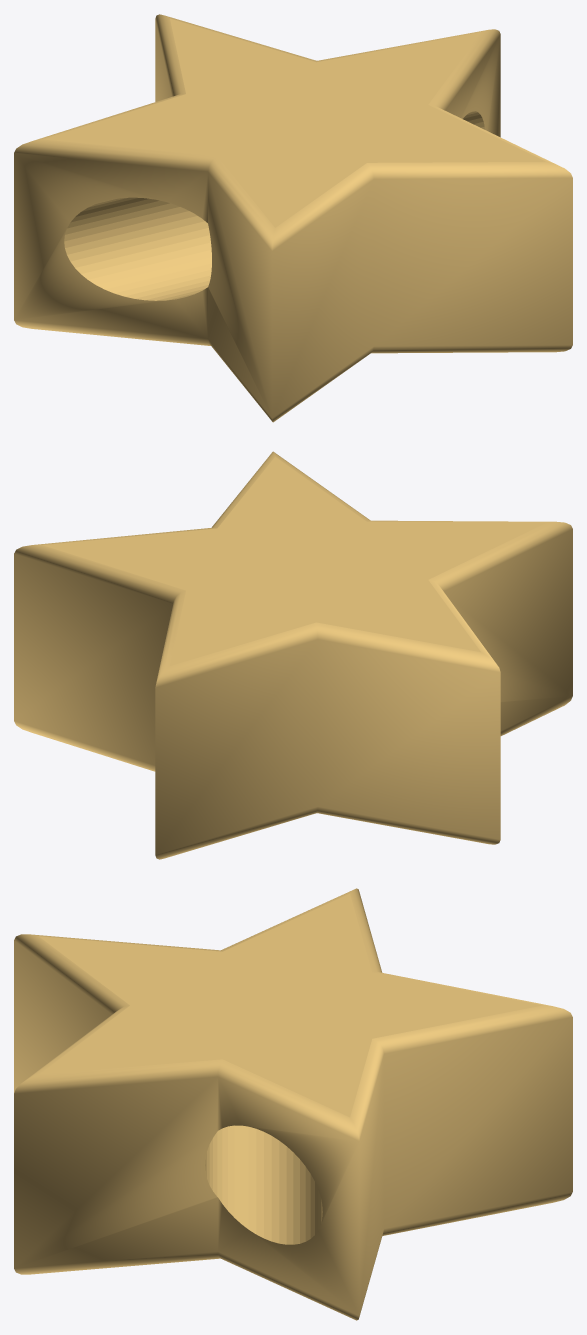
File: spacer-14-gold.glb
3 views of the same model, one above another, from view 1: azimuth 30°, elevation 25°; view 2: azimuth 150°, elevation 25°; view 3: azimuth 270°, elevation 25° (orthographic). The views are drawn at different scales.
Parts seen in each view (by area): view 1: Cast relief.002; view 2: Cast relief.002; view 3: Cast relief.002.
Boxes of the visible parts, box(x1,y1,x2,y2) form: Cast relief.002: box(14, 14, 572, 422); Cast relief.002: box(14, 451, 572, 859); Cast relief.002: box(14, 888, 572, 1320).
Bounding box in the file's own units: 0.00549 × 0.00204 × 0.00522.
